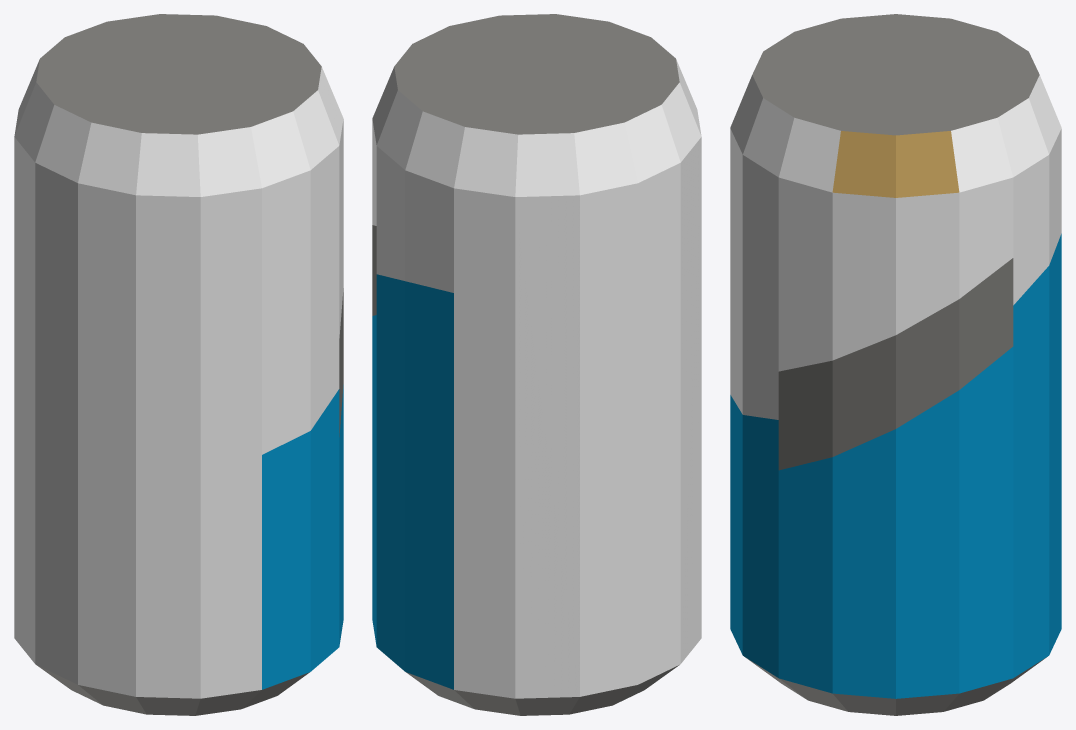
The model's file is lata2.glb.
3 renders of one model, left to right at view 1: azimuth 30°, elevation 25°; view 2: azimuth 150°, elevation 25°; view 3: azimuth 270°, elevation 25°, orthographic.
Visible parts, largest first — view 1: Cilindro; view 2: Cilindro; view 3: Cilindro.
Part boxes in pixels (x1,y1,x2,y2): Cilindro: (14, 14, 343, 715); Cilindro: (372, 14, 701, 715); Cilindro: (730, 14, 1061, 715).
Bounding box in the file's own units: 0.182 × 0.3565 × 0.182.
